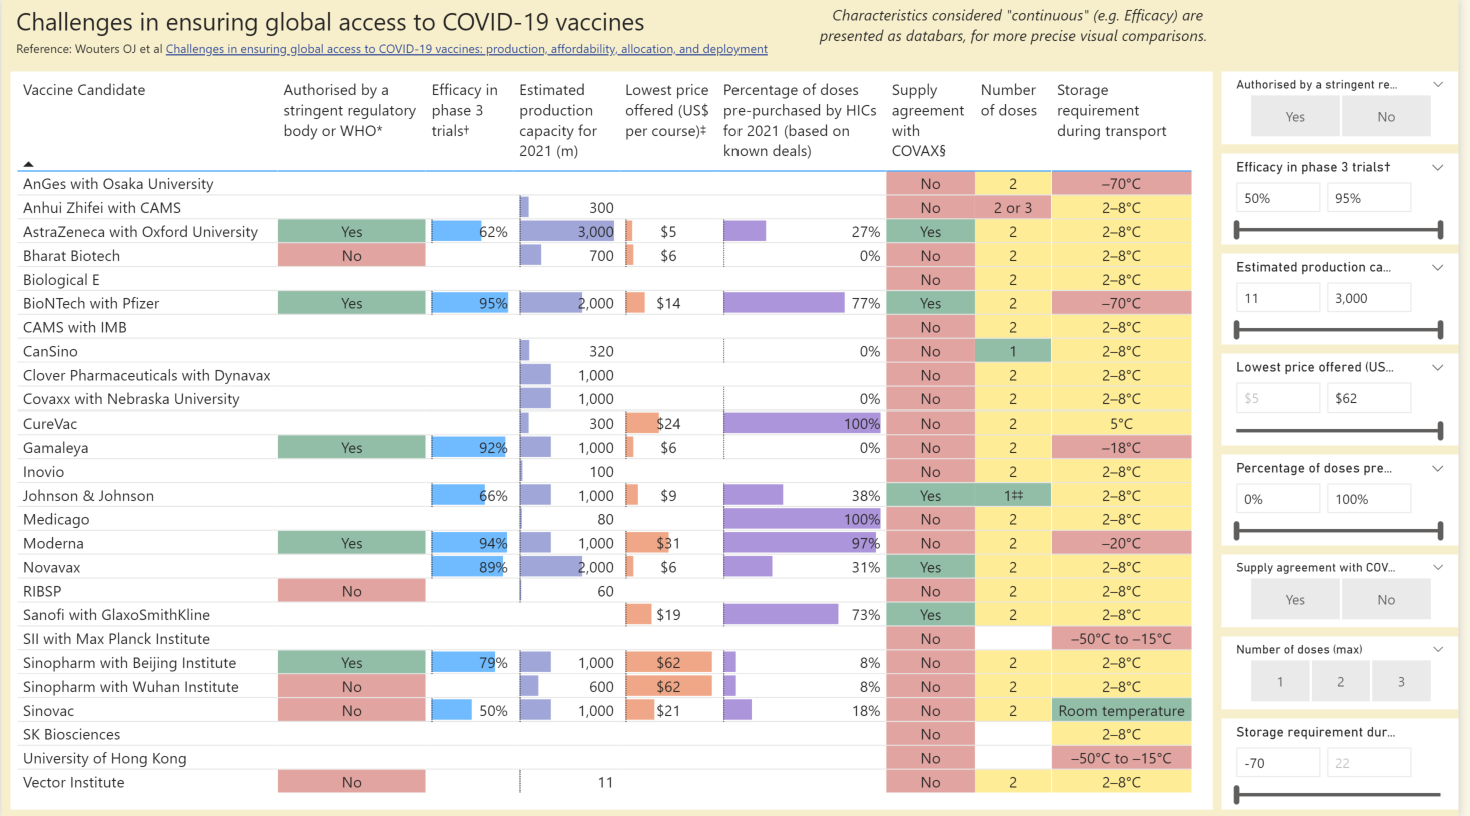

The page's visual inventory and layout, read from the dashboard file:
{"tool":"powerbi","page":{"name":"Databars","canvas":[1280,720],"ordinal":2},"visuals":[{"type":"tableEx","fields":{"Values":["Vaccine Candidates.Vaccine Candidate","Vaccine Candidates.Authorised by a stringent regulatory body or WHO*","Vaccine Candidates.Efficacy %","Vaccine Candidates.Estimated production #","Vaccine Candidates.Lowest price offered (US$ per course)‡","Vaccine Candidates.Percentage of doses pre-purchased by HICs for 2021 %","Vaccine Candidates.Supply agreement with COVAX§","Vaccine Candidates.Number of doses","Vaccine Candidates.Storage requirement during transport"]},"box":[8,64,1056,648],"z":0},{"type":"slicer","fields":{"Values":["Vaccine Candidates.Authorised by a stringent regulatory body or WHO*"]},"box":[1072,64,208,64],"z":1000},{"type":"slicer","fields":{"Values":["Vaccine Candidates.Efficacy %"]},"box":[1072,136,208,80],"z":2000},{"type":"slicer","fields":{"Values":["Vaccine Candidates.Estimated production #"]},"box":[1072,224,208,80],"z":3000},{"type":"slicer","fields":{"Values":["Vaccine Candidates.Lowest price offered (US$ per course)‡"]},"box":[1072,312,208,80],"z":4000},{"type":"slicer","fields":{"Values":["Vaccine Candidates.Percentage of doses pre-purchased by HICs for 2021 %"]},"box":[1072,400,208,80],"z":5000},{"type":"slicer","fields":{"Values":["Vaccine Candidates.Supply agreement with COVAX§"]},"box":[1072,488,208,64],"z":6000},{"type":"slicer","fields":{"Values":["Vaccine Candidates.Number of doses #"]},"box":[1072,560,208,64],"z":7000},{"type":"slicer","fields":{"Values":["Vaccine Candidates.Storage requirement during transport # max"]},"box":[1072,632,208,80],"z":8000},{"type":"textbox","box":[8,0,704,64],"z":9000},{"type":"textbox","box":[712,0,352,64],"z":10000},{"type":"actionButton","box":[1224,0,56,56],"z":11000}]}

Visuals, with their boxes in screenshot pixels (x1, y1, x2, y2), scaled from the page's 1280x720 canvas onto the 1470x816 screenshot:
tableEx - Vaccine Candidates.Vaccine Candidate x Vaccine Candidates.Authorised by a stringent regulatory body or WHO*: 9:73:1222:807
slicer - Vaccine Candidates.Authorised by a stringent regulatory body or WHO*: 1231:73:1469:145
slicer - Vaccine Candidates.Efficacy %: 1231:154:1469:245
slicer - Vaccine Candidates.Estimated production #: 1231:254:1469:345
slicer - Vaccine Candidates.Lowest price offered (US$ per course)‡: 1231:354:1469:444
slicer - Vaccine Candidates.Percentage of doses pre-purchased by HICs for 2021 %: 1231:453:1469:544
slicer - Vaccine Candidates.Supply agreement with COVAX§: 1231:553:1469:626
slicer - Vaccine Candidates.Number of doses #: 1231:635:1469:707
slicer - Vaccine Candidates.Storage requirement during transport # max: 1231:716:1469:807
textbox: 9:0:818:73
textbox: 818:0:1222:73
actionButton: 1406:0:1469:63
